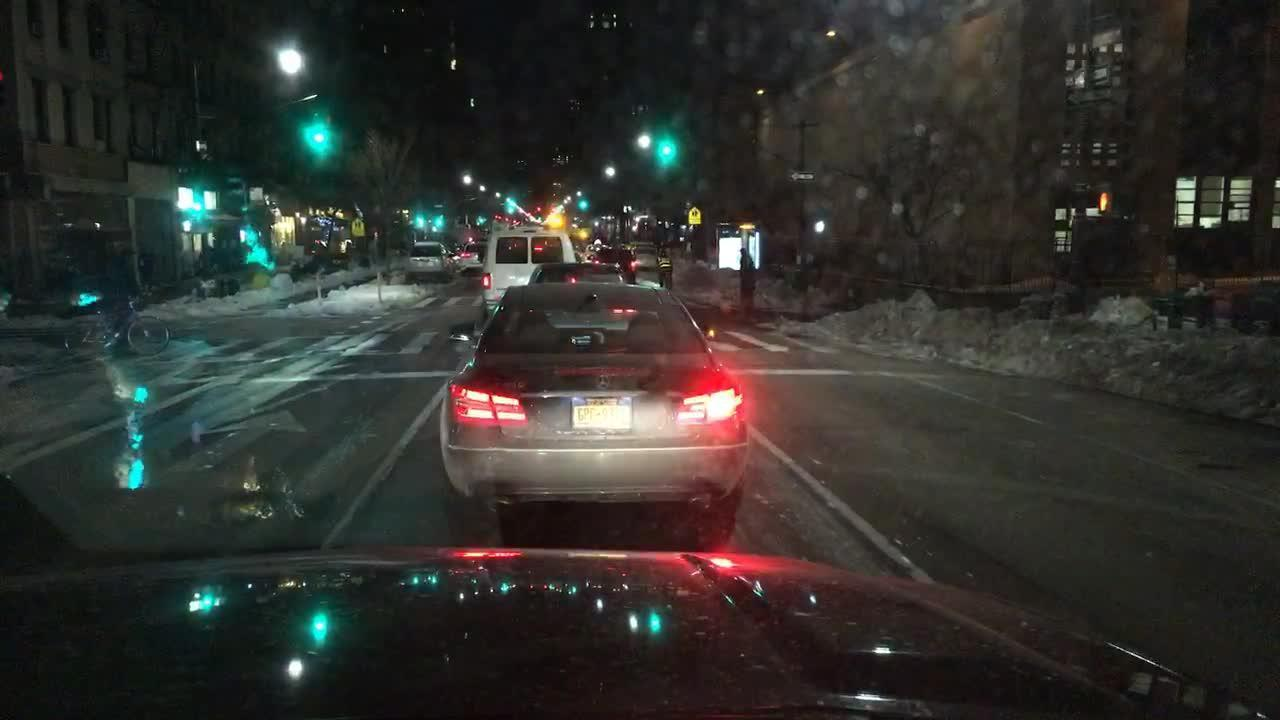Mercedes: (586, 366, 618, 393)
